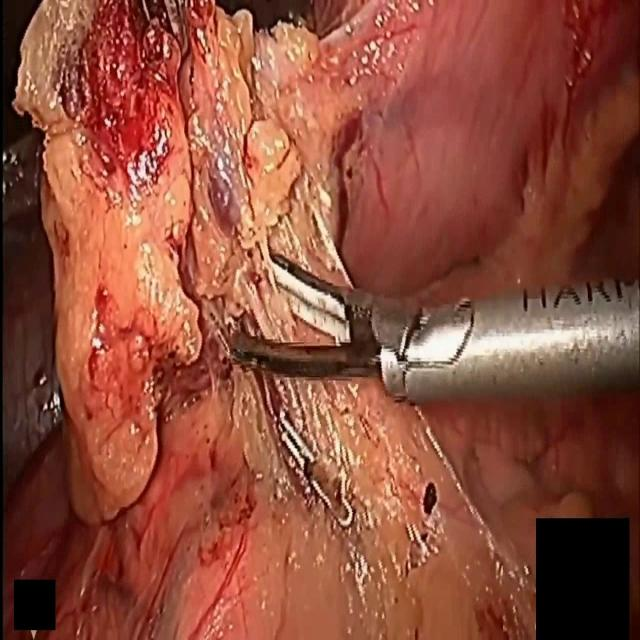surgical-area: (1, 0, 640, 639)
surgical-tool: (228, 253, 640, 401)
